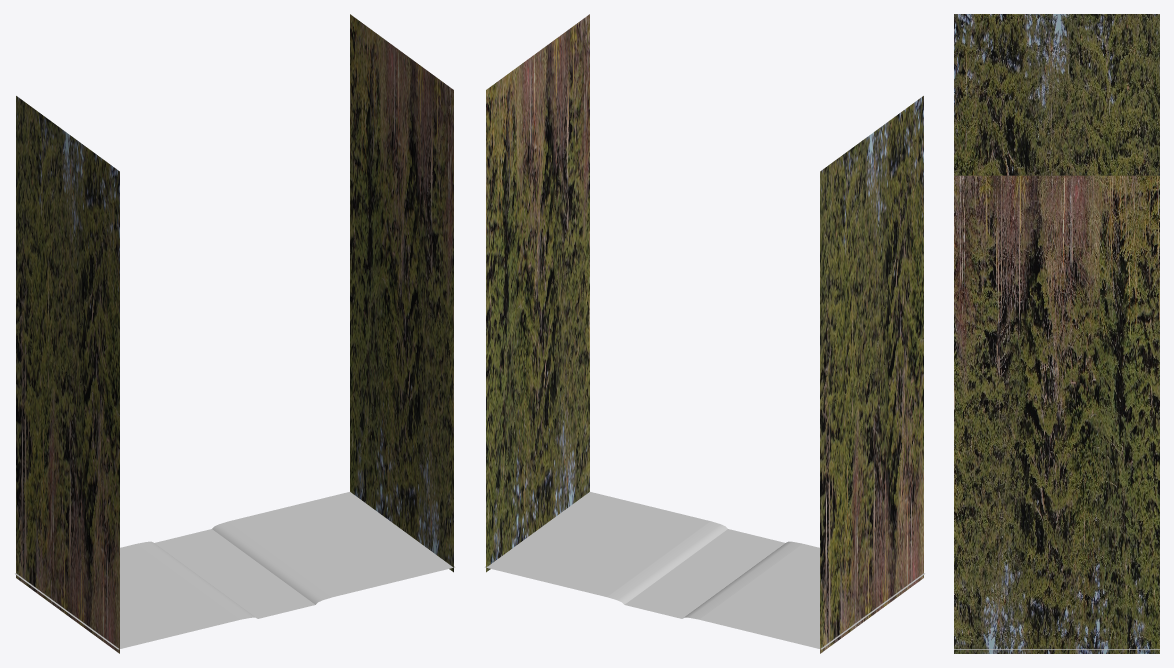
File: suora_seinät.FBX
The picture shows the model from 3 angles, left to right: view 1: azimuth 30°, elevation 25°; view 2: azimuth 150°, elevation 25°; view 3: azimuth 270°, elevation 25°; orthographic projection.
Parts seen in each view (by area): view 1: Plane001, Plane002, Plane012, suora002; view 2: Plane001, Plane002, Plane012, suora002; view 3: Plane002, Plane001.
Boxes of the visible parts, bbox=[...] form: Plane001: bbox=[16, 96, 119, 653]; Plane002: bbox=[350, 14, 453, 572]; Plane012: bbox=[15, 492, 455, 649]; suora002: bbox=[137, 521, 332, 619]; Plane001: bbox=[820, 96, 923, 653]; Plane002: bbox=[486, 14, 589, 572]; Plane012: bbox=[484, 492, 924, 649]; suora002: bbox=[607, 521, 802, 619]; Plane002: bbox=[954, 175, 1159, 653]; Plane001: bbox=[954, 14, 1159, 175].
Bounding box in the file's own units: 525 × 718 × 280.
